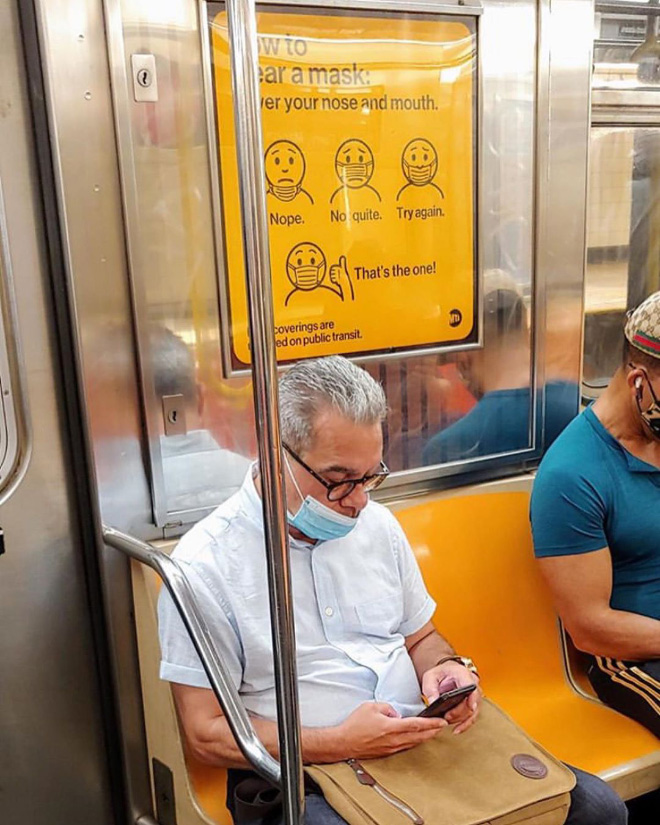with_incorrect_mask: (300, 422, 379, 542)
